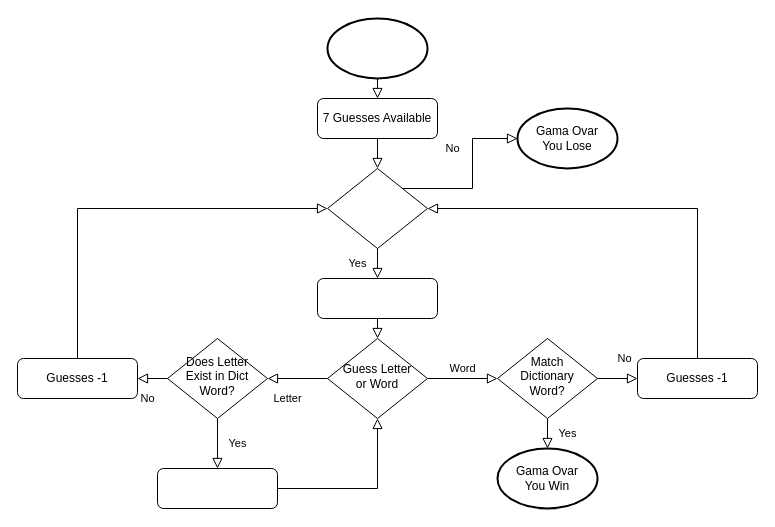
Some shapes in this 775 by 527 pixel diagram are drawn without their labels. The shapes that lost their labels are listed below. From the top down, each one's centre as x and y in pixels, then its label:
[377,48]: Choose Word From Dictionary
[377,208]: Guesses > 0?
[377,298]: "You have n Guesses Left"
[217,488]: Print Dict Word with un-guessed letters blank
